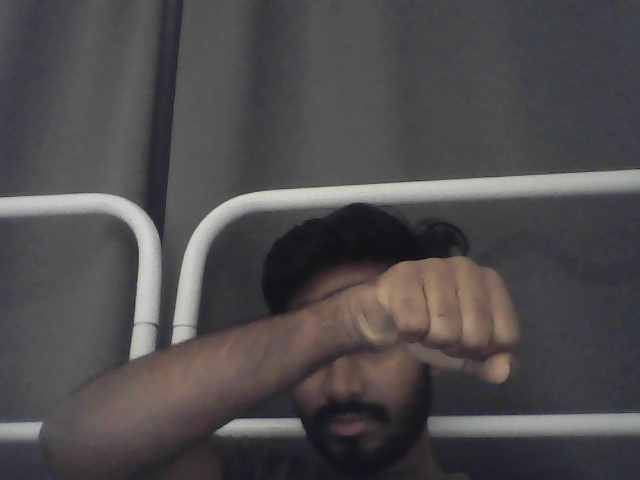yes: (374, 255, 526, 390)
